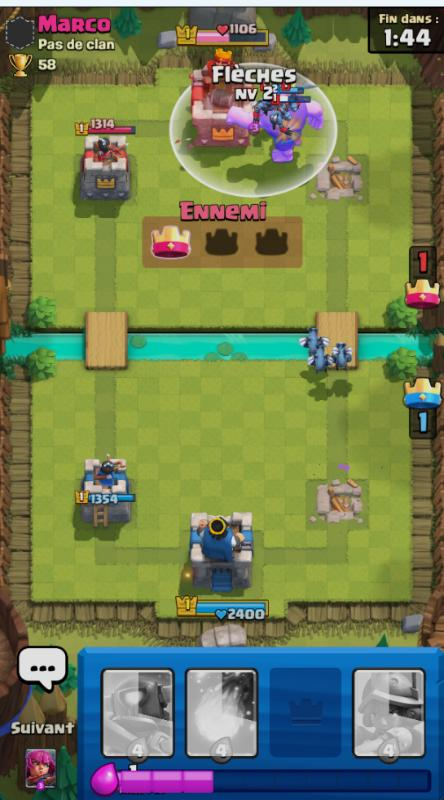gargouille: (302, 328, 330, 355), (329, 342, 353, 372), (307, 347, 333, 373), (251, 95, 276, 122), (271, 107, 291, 136), (284, 89, 301, 111)
geant: (230, 79, 325, 161)
